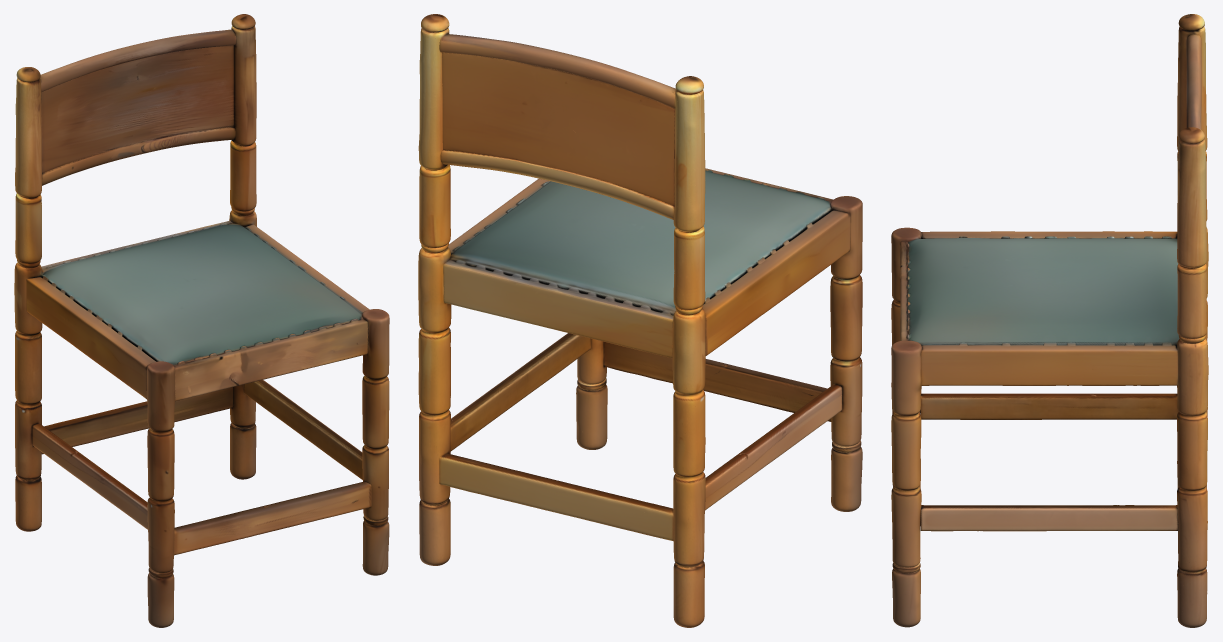
File: NMK.INVENTAR.2017.0213_146734.glb
3 views of the same model, side by side, from view 1: azimuth 30°, elevation 25°; view 2: azimuth 150°, elevation 25°; view 3: azimuth 270°, elevation 25° (orthographic). The views are drawn at different scales.
Parts seen in each view (by area): view 1: root.0, root.2, root.1, root.3, root.4, root.5, root.6, root.8, root.7, root.10, root.9; view 2: root.2, root.0, root.1, root.3, root.4, root.5, root.7, root.8, root.10, root.9, root.6; view 3: root.0, root.4, root.1, root.6, root.10, root.9, root.3, root.2, root.5.
Boxes of the visible parts, x1=… form: root.0: x1=41, y1=223, x2=363, y2=365; root.2: x1=40, y1=29, x2=236, y2=185; root.1: x1=26, y1=220, x2=369, y2=401; root.3: x1=14, y1=67, x2=42, y2=531; root.4: x1=229, y1=14, x2=256, y2=479; root.5: x1=146, y1=361, x2=175, y2=627; root.6: x1=362, y1=309, x2=389, y2=575; root.8: x1=174, y1=481, x2=371, y2=555; root.7: x1=41, y1=387, x2=233, y2=454; root.10: x1=32, y1=423, x2=147, y2=529; root.9: x1=243, y1=380, x2=362, y2=479; root.2: x1=439, y1=34, x2=676, y2=219; root.0: x1=450, y1=171, x2=831, y2=315; root.1: x1=443, y1=168, x2=850, y2=358; root.3: x1=672, y1=76, x2=705, y2=627; root.4: x1=418, y1=14, x2=451, y2=565; root.5: x1=830, y1=196, x2=862, y2=511; root.7: x1=439, y1=453, x2=673, y2=541; root.8: x1=603, y1=342, x2=831, y2=421; root.10: x1=705, y1=384, x2=842, y2=510; root.9: x1=450, y1=333, x2=590, y2=451; root.6: x1=576, y1=338, x2=607, y2=449; root.0: x1=907, y1=238, x2=1179, y2=347; root.4: x1=1177, y1=127, x2=1208, y2=627; root.1: x1=900, y1=231, x2=1177, y2=385; root.6: x1=891, y1=340, x2=921, y2=627; root.10: x1=920, y1=393, x2=1178, y2=419; root.9: x1=920, y1=505, x2=1178, y2=531; root.3: x1=1177, y1=14, x2=1208, y2=488; root.2: x1=1186, y1=34, x2=1201, y2=129; root.5: x1=891, y1=227, x2=921, y2=488.
Size of the model in its own units: 0.4364 by 0.81 by 0.4688.
Materials: 11 (11 with a texture image).
